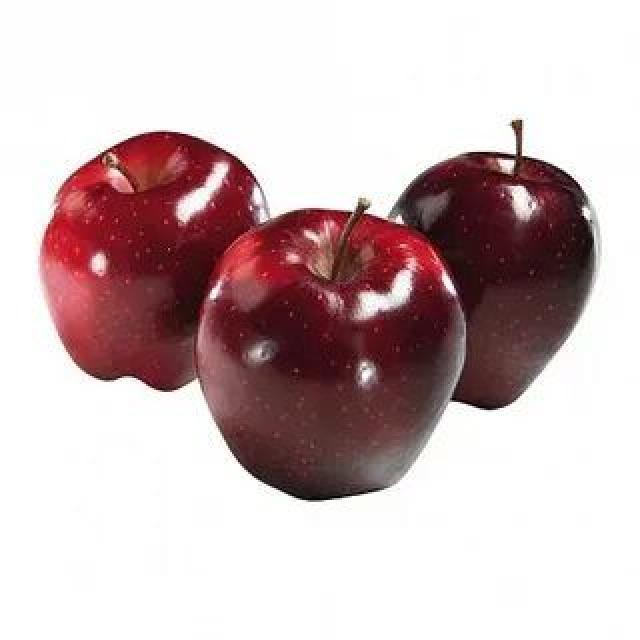Fresh Apple: (204, 208, 454, 500), (392, 142, 596, 420), (52, 132, 254, 368)
